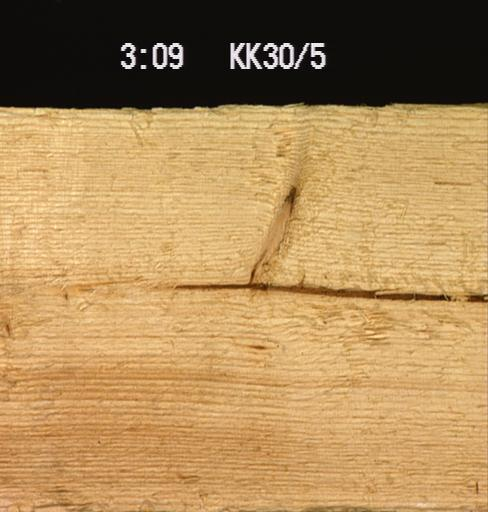small_knot: (0, 316, 23, 336)
